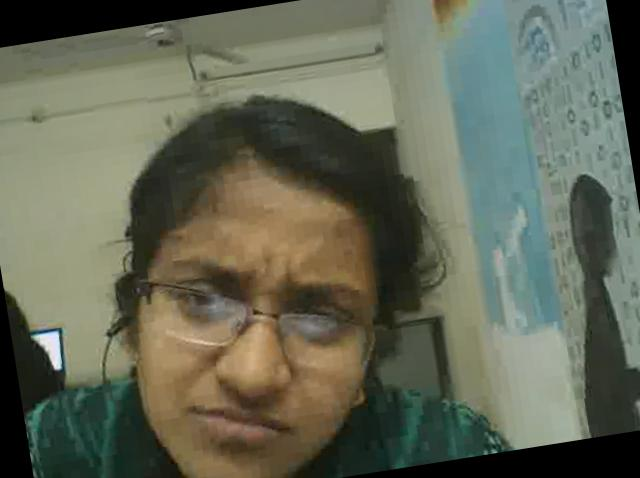bingung: (118, 172, 409, 478)
